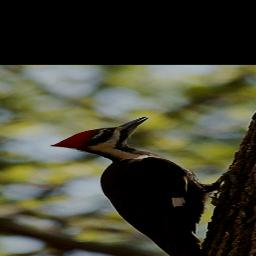Woodpecker: (49, 116, 251, 256)
